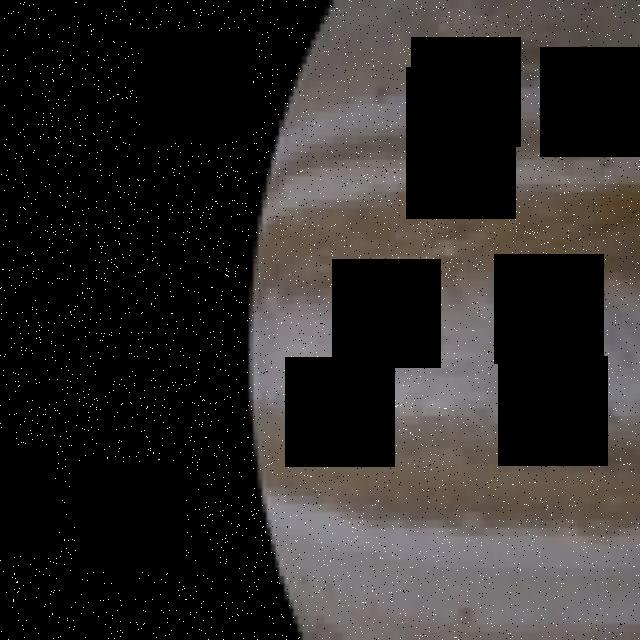Jupiter: (249, 0, 640, 640)
